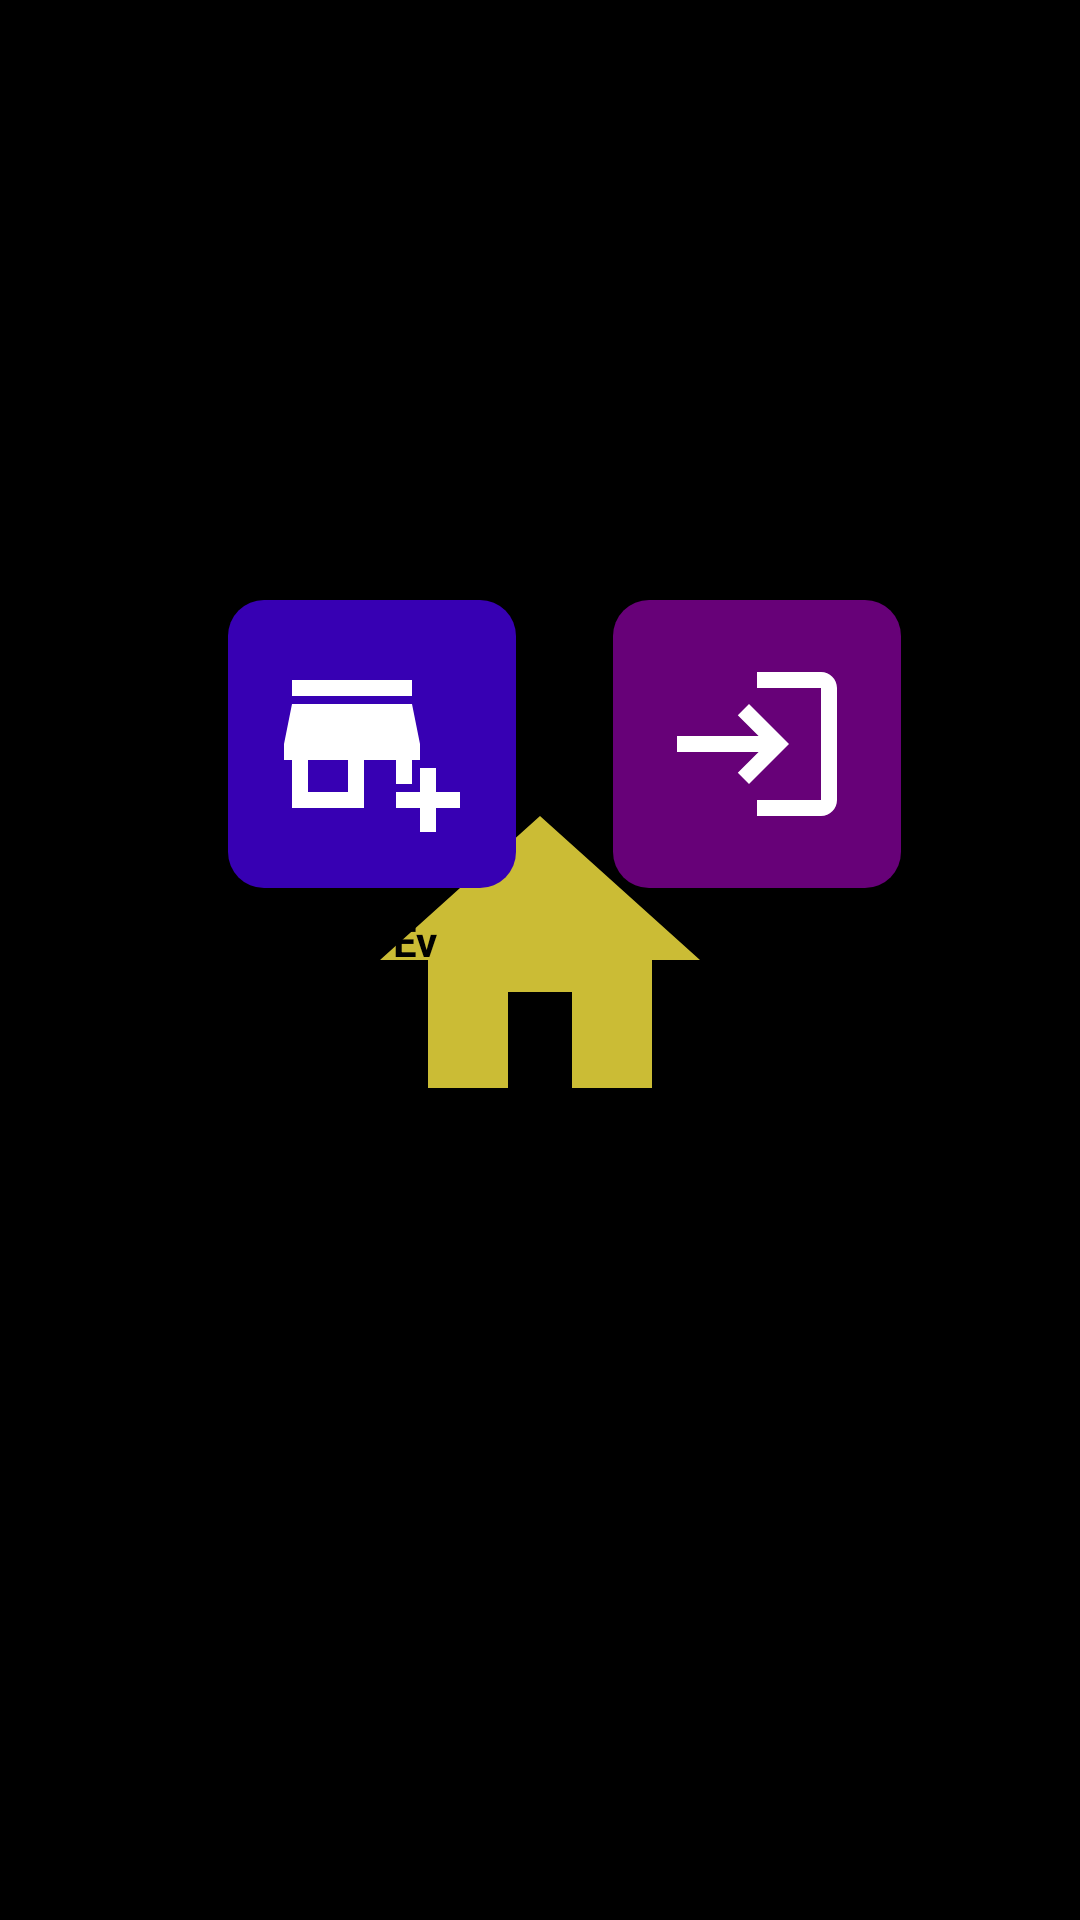

Where to tap for icons on this 1080px x 1920px app screen, as [x,y]:
login: [757,744]
